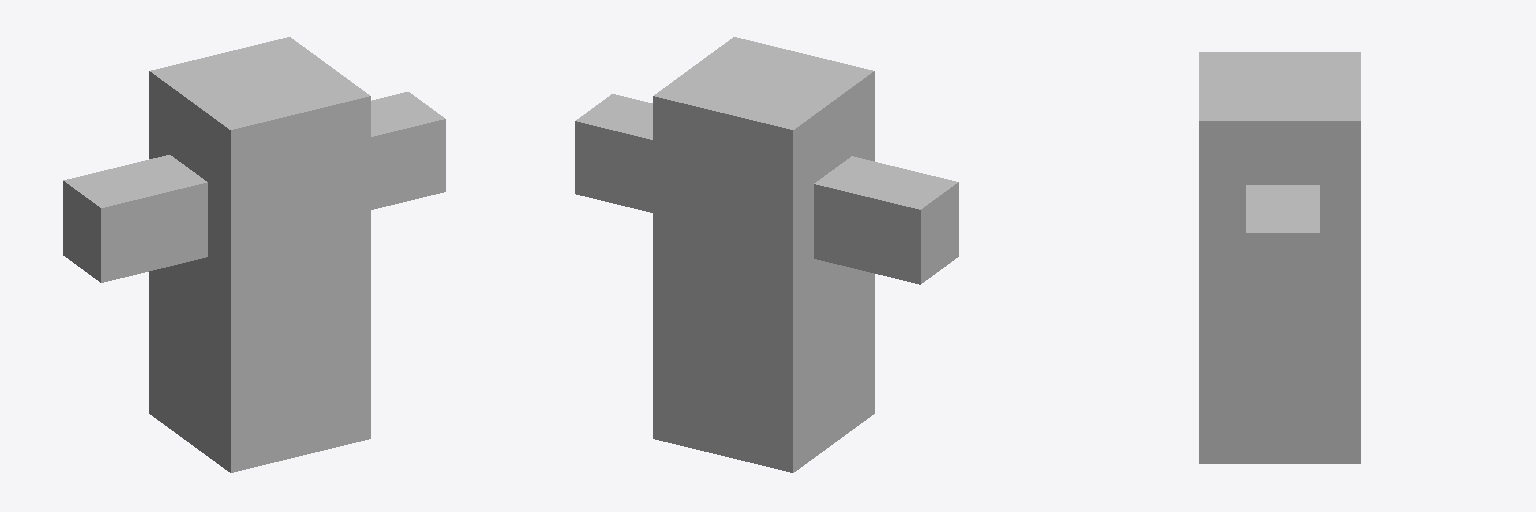
File: character.obj
3 renders of one model, left to right at view 1: azimuth 30°, elevation 25°; view 2: azimuth 150°, elevation 25°; view 3: azimuth 270°, elevation 25°, orthographic.
Parts seen in each view (by area): view 1: Cube; view 2: Cube; view 3: Cube.
Boxes of the visible parts, x1,y1,x2,y2 form: Cube: [63, 37, 445, 472]; Cube: [575, 37, 958, 472]; Cube: [1199, 52, 1360, 463].
Size of the model in its own units: 4.92 by 4.67 by 2.